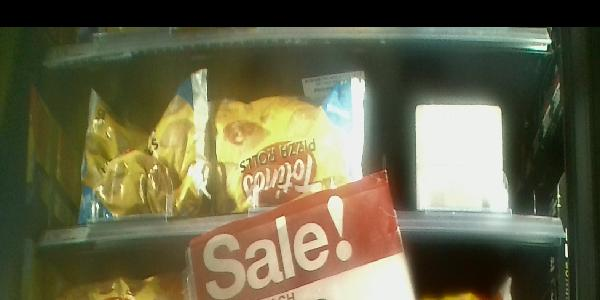icecream: (212, 70, 368, 216), (76, 68, 217, 221)
